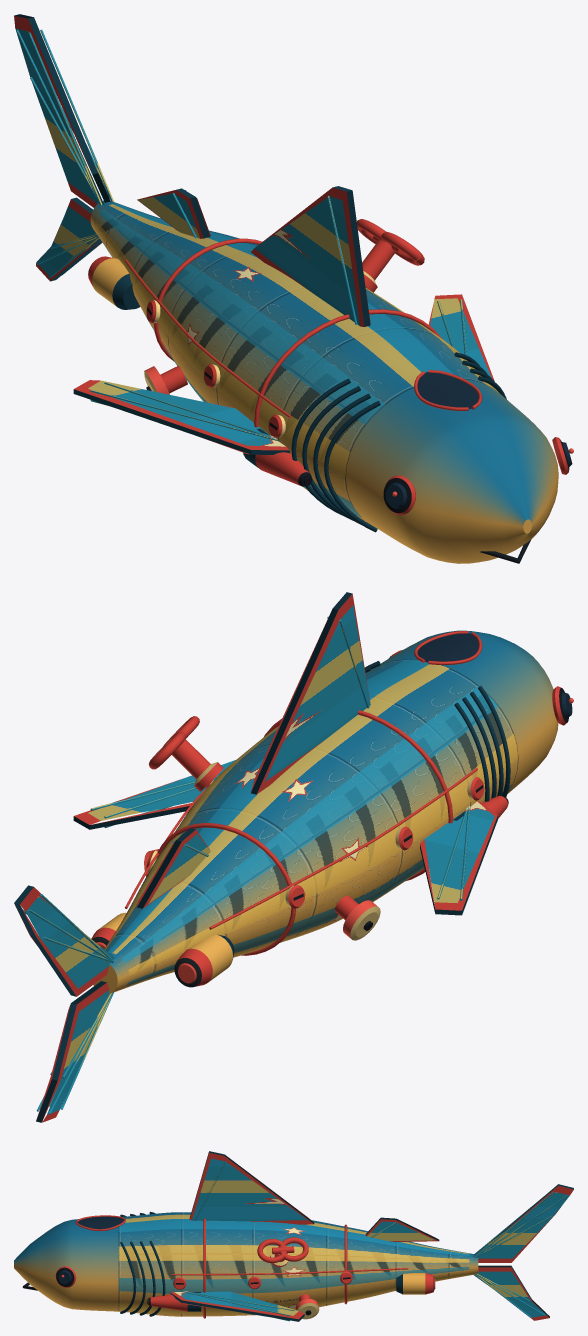
3 renders of one model, top to bottom at view 1: azimuth 30°, elevation 25°; view 2: azimuth 150°, elevation 25°; view 3: azimuth 270°, elevation 25°, orthographic. The views are drawn at different scales.
Parts seen in each view (by area): view 1: tiger_shark_hull; view 2: tiger_shark_hull; view 3: tiger_shark_hull.
Boxes of the visible parts, box(x1,y1,x2,y2) form: tiger_shark_hull: box(14, 14, 573, 563); tiger_shark_hull: box(14, 592, 573, 1122); tiger_shark_hull: box(14, 1151, 573, 1321).
Size of the model in its own units: 35.12 by 26.52 by 80.
Materials: 1 (1 with a texture image).
